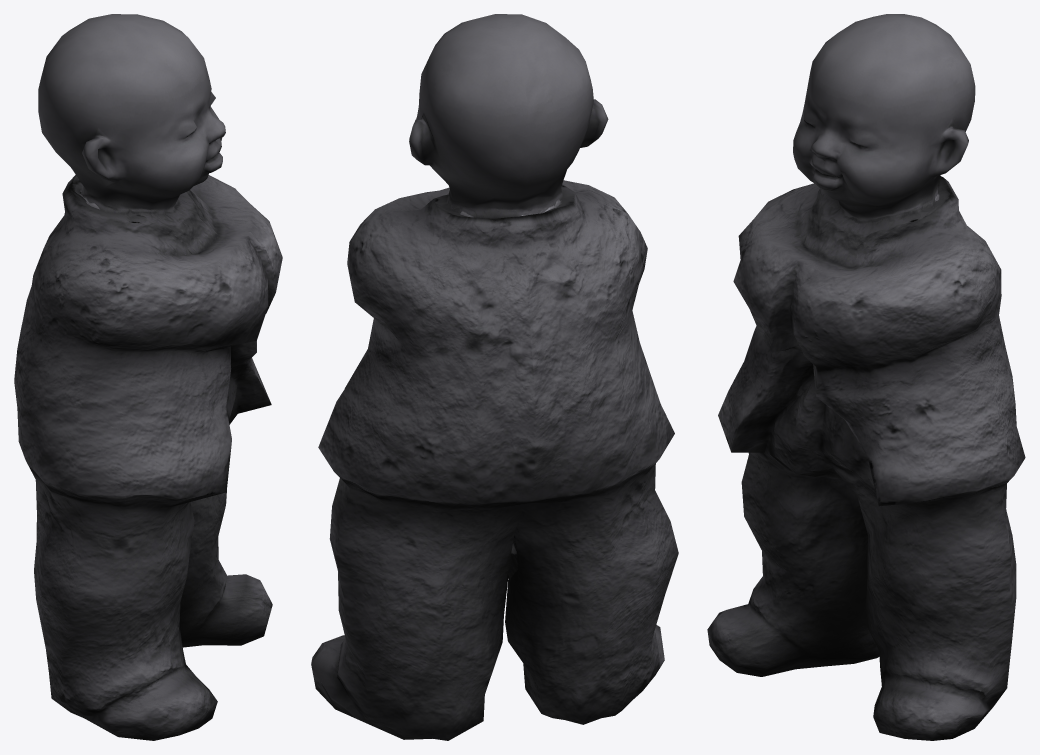
The model's file is MudDoll_boy.dae.
3 renders of one model, left to right at view 1: azimuth 30°, elevation 25°; view 2: azimuth 150°, elevation 25°; view 3: azimuth 270°, elevation 25°, orthographic. The views are drawn at different scales.
Visible parts, largest first — view 1: MudDoll_boy; view 2: MudDoll_boy; view 3: MudDoll_boy.
Boxes of the visible parts, x1,y1,x2,y2 form: MudDoll_boy: (14, 14, 282, 740); MudDoll_boy: (311, 14, 678, 740); MudDoll_boy: (707, 14, 1025, 740).
Size of the model in its own units: 4.16 by 9.42 by 4.15.
1 material, 1 textured.
